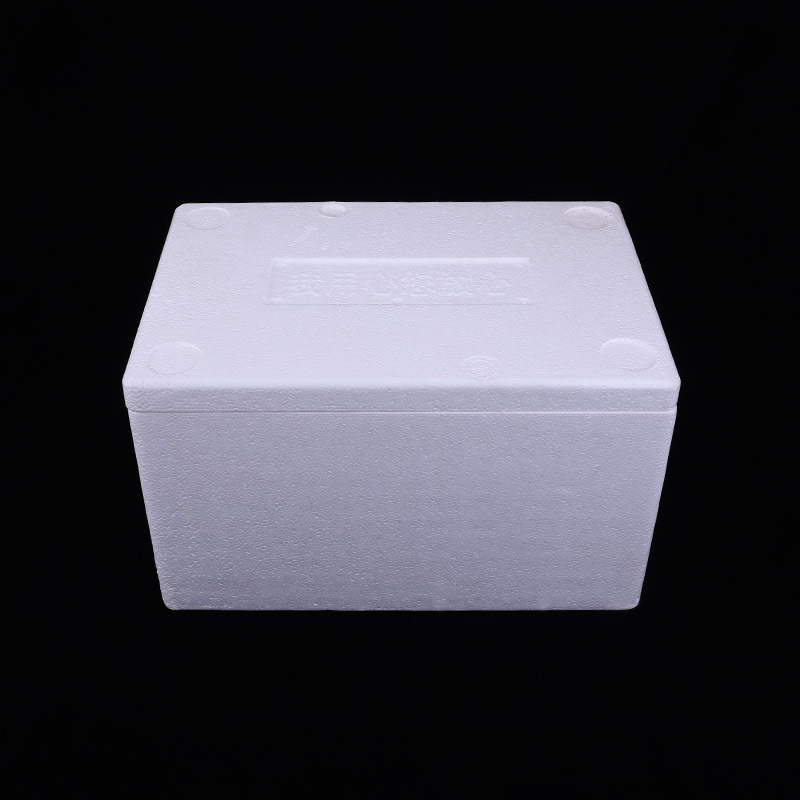泡沫箱: (123, 202, 679, 610)
